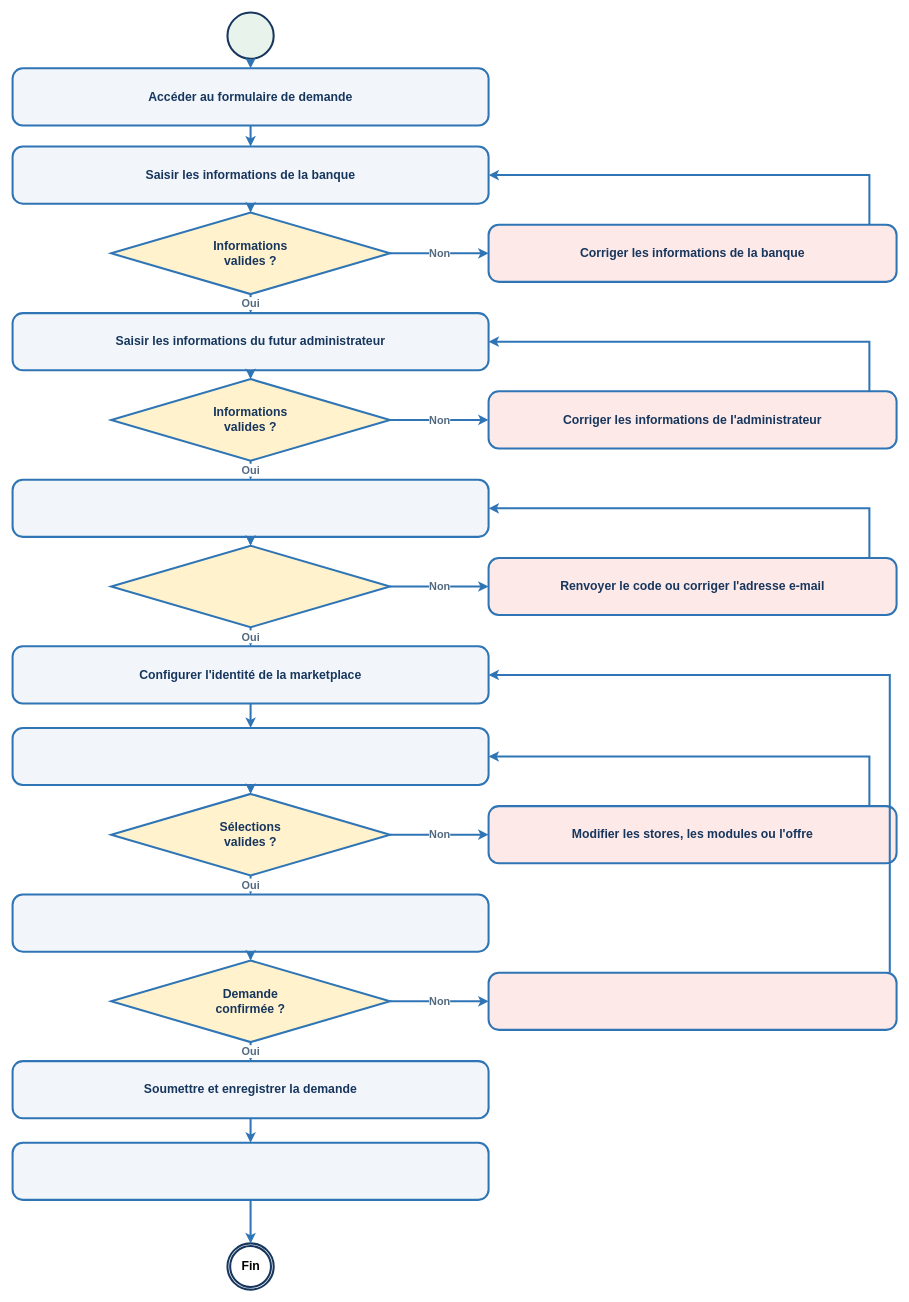
Some shapes in this 909 by 1302 pixel diagram are drawn without their labels. Each missing label, with the centre of its shape:
"Afficher le récapitulatif de la demande" belongs at (250,922).
"Début" belongs at (250,35).
"E-mail vérifié ?" belongs at (250,586).
"Envoyer et saisir le code de vérification e-mail" belongs at (250,508).
"Modifier la configuration" belongs at (692,1001).
"Notifier le Back-office SaaS et le demandeur" belongs at (250,1171).
"Sélectionner les stores, les modules et l'offre" belongs at (250,756).
